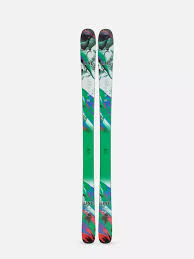skis: (78, 29, 114, 243)
